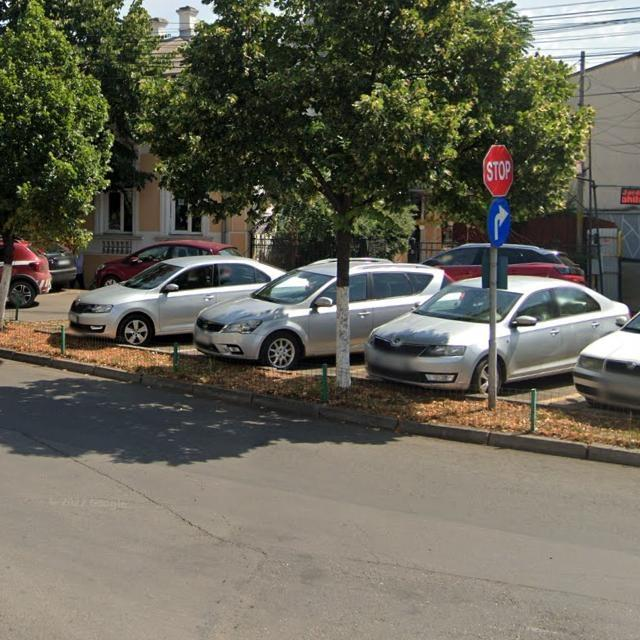prio_stop: (484, 145, 515, 199)
